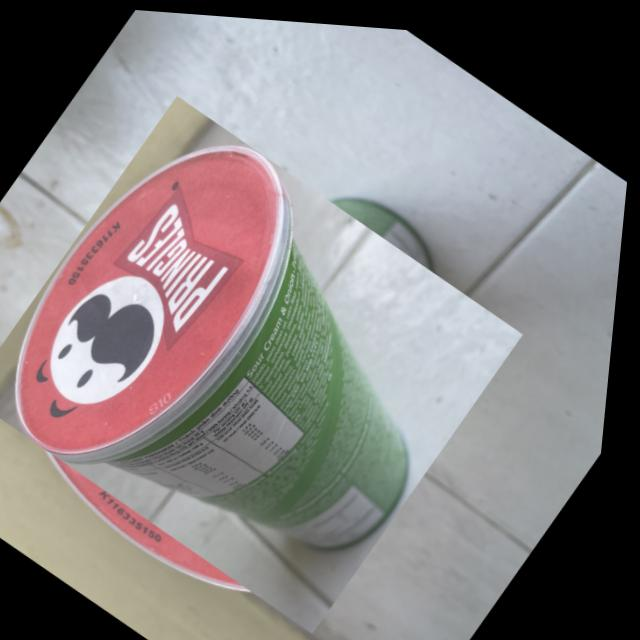a pringles: (0, 76, 541, 640)
